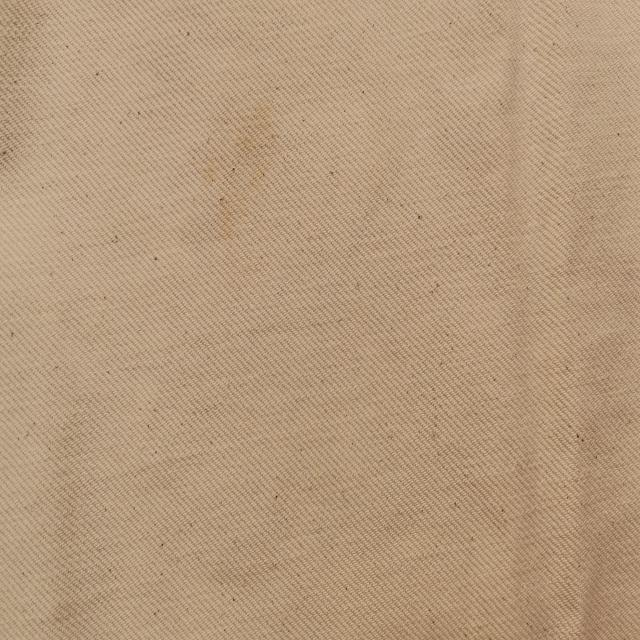taaaches: (189, 89, 281, 255)
